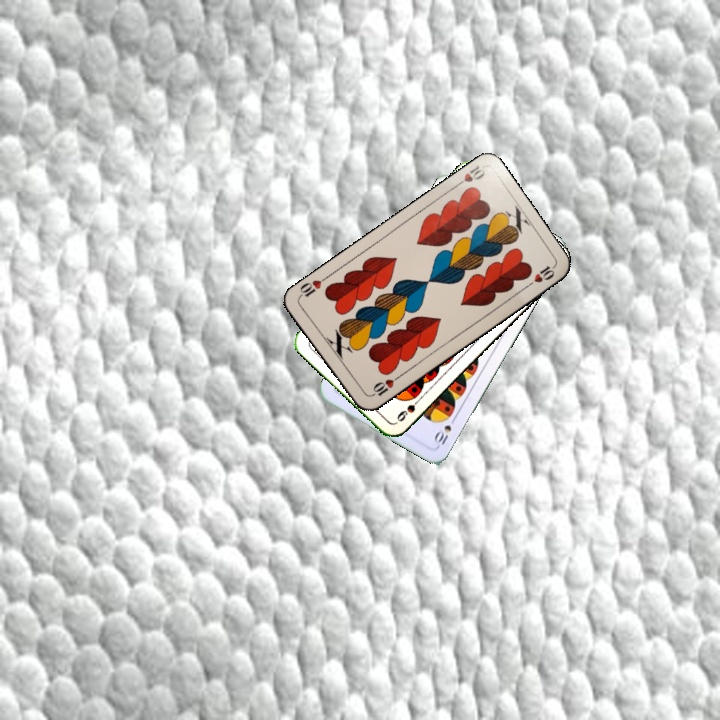H10: (450, 161, 487, 190), (366, 372, 402, 400)
S10: (430, 412, 459, 449)
S9: (393, 393, 425, 424)
